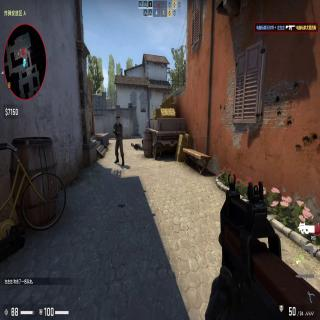T-Body: (112, 116, 125, 166)
T-Head: (116, 116, 120, 125), (130, 141, 134, 148)
